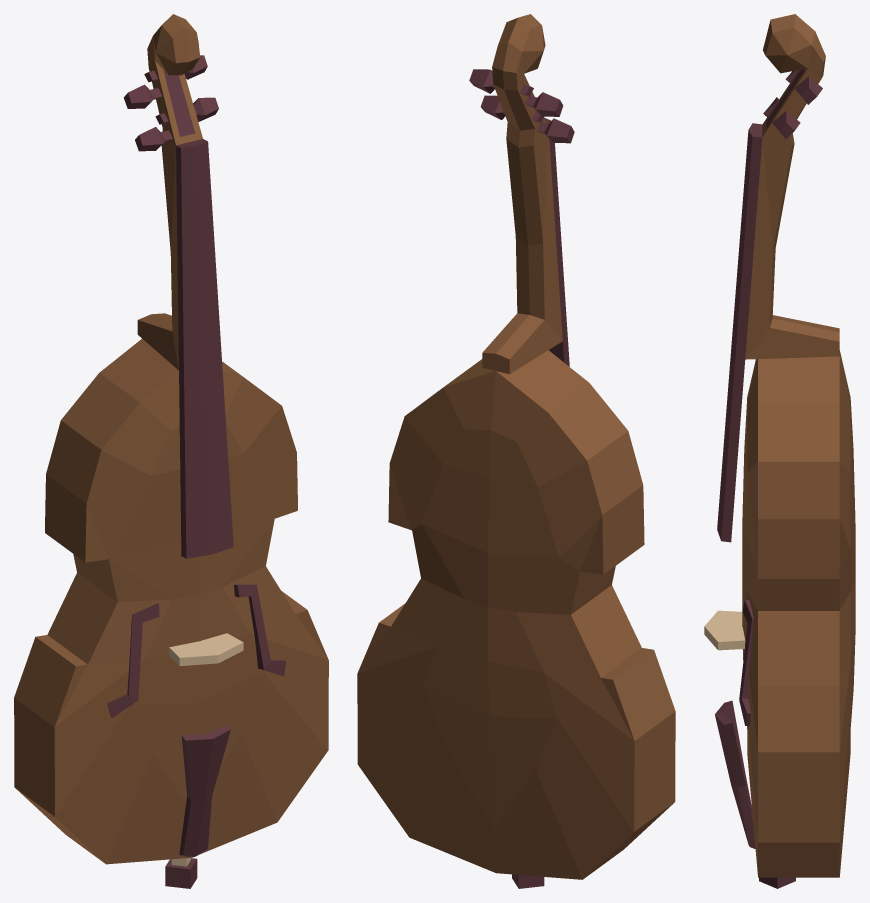
Rendered from double-bass.fbx.
The picture shows the model from 3 angles, left to right: view 1: azimuth 30°, elevation 25°; view 2: azimuth 150°, elevation 25°; view 3: azimuth 270°, elevation 25°; orthographic projection.
Visible parts, largest first — view 1: double-bass; view 2: double-bass; view 3: double-bass.
Part boxes in pixels (x1=…): double-bass: x1=14, y1=14, x2=328, y2=888; double-bass: x1=357, y1=14, x2=675, y2=888; double-bass: x1=704, y1=14, x2=855, y2=888.
Bounding box in the file's own units: 0.6858 × 2.06 × 0.325.
